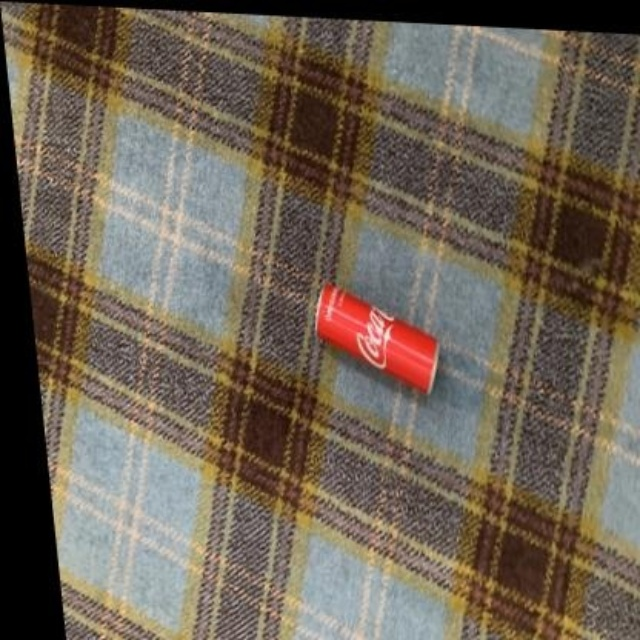trash: (315, 283, 437, 392)
